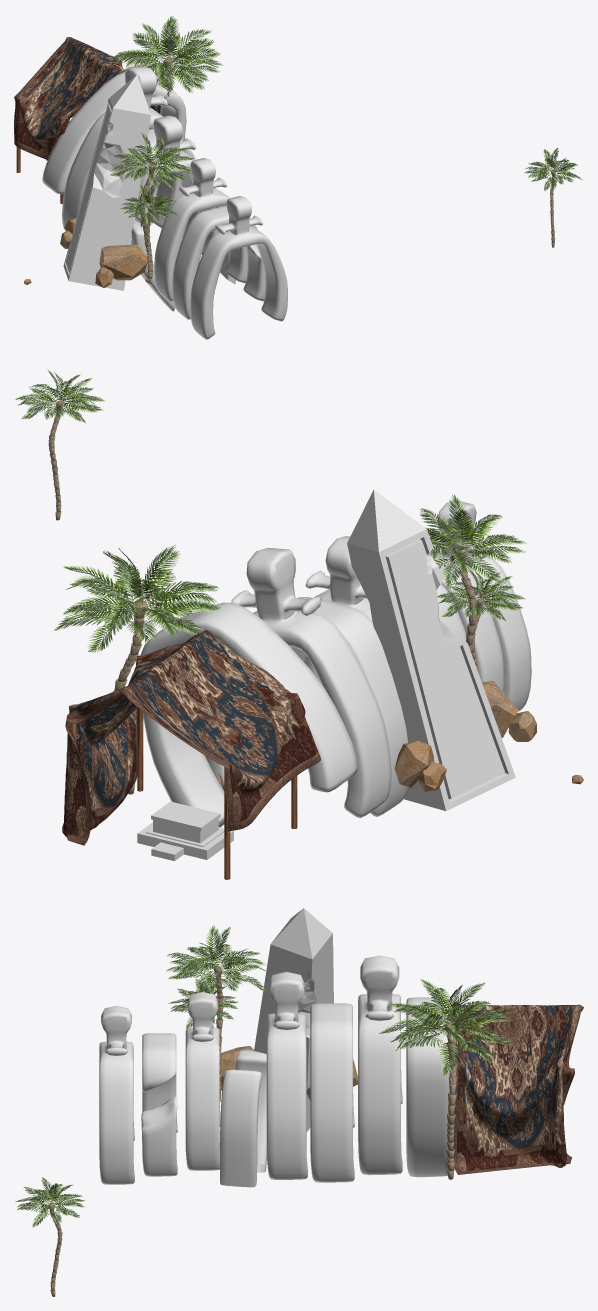
The model's file is oase_V1 (1).fbx.
The picture shows the model from 3 angles, top to bottom: view 1: azimuth 30°, elevation 25°; view 2: azimuth 150°, elevation 25°; view 3: azimuth 270°, elevation 25°; orthographic projection. The views are drawn at different scales.
Visible parts, largest first — view 1: Cube, Plane.001, os2, Plane.004, os2.001, os1.003, os1, os2.003, Plane.028, os, eva, Plane.003 (+3 smaller); view 2: Plane.001, Cube, os1.003, os2.003, Plane.004, Plane.028, os2, os1.002, Cube.002, Plane.003, os1, os (+6 smaller); view 3: Plane.001, os2.003, os, os1.002, os1.003, Plane.004, os2, os2.001, os2.005, Cube, os1, Plane.028 (+2 smaller).
Boxes of the visible parts, box(x1,y1,x2,y2) form: Cube: box(63, 74, 150, 290); Plane.001: box(14, 37, 160, 160); os2: box(190, 196, 287, 339); Plane.004: box(112, 16, 222, 98); os2.001: box(154, 158, 247, 301); os1.003: box(42, 72, 186, 223); os1: box(172, 205, 265, 319); os2.003: box(62, 66, 181, 231); Plane.028: box(110, 132, 193, 278); os: box(137, 115, 217, 254); eva: box(99, 244, 147, 280); Plane.003: box(524, 148, 582, 247); Plane.001: box(62, 629, 320, 845); Cube: box(347, 489, 515, 810); os1.003: box(140, 602, 357, 827); os2.003: box(205, 547, 391, 817); Plane.004: box(54, 544, 220, 794); Plane.028: box(420, 495, 526, 655); os2: box(429, 500, 531, 711); os1.002: box(298, 596, 408, 816); Cube.002: box(137, 801, 233, 860); Plane.003: box(15, 369, 104, 520); os1: box(434, 558, 504, 691); os: box(290, 536, 372, 662); Plane.001: box(452, 1002, 583, 1174); os2.003: box(358, 955, 402, 1175); os: box(266, 971, 307, 1179); os1.002: box(310, 1003, 354, 1182); os1.003: box(406, 997, 451, 1177); Plane.004: box(379, 979, 515, 1179); os2: box(99, 1006, 134, 1184); os2.001: box(185, 992, 220, 1170); os2.005: box(220, 1050, 266, 1187); Cube: box(254, 908, 333, 1131); os1: box(141, 1033, 177, 1176); Plane.028: box(166, 925, 265, 1101).
Size of the model in its own units: 4875 by 2191 by 4354.
14 materials, 12 textured.
